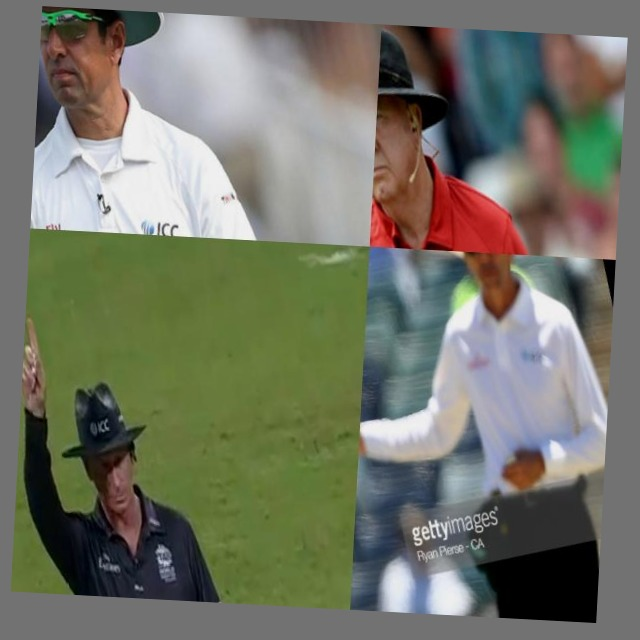No_Action: (30, 6, 345, 245)
No_Ball: (350, 247, 616, 623), (370, 24, 628, 260)
Out: (11, 272, 265, 604)
